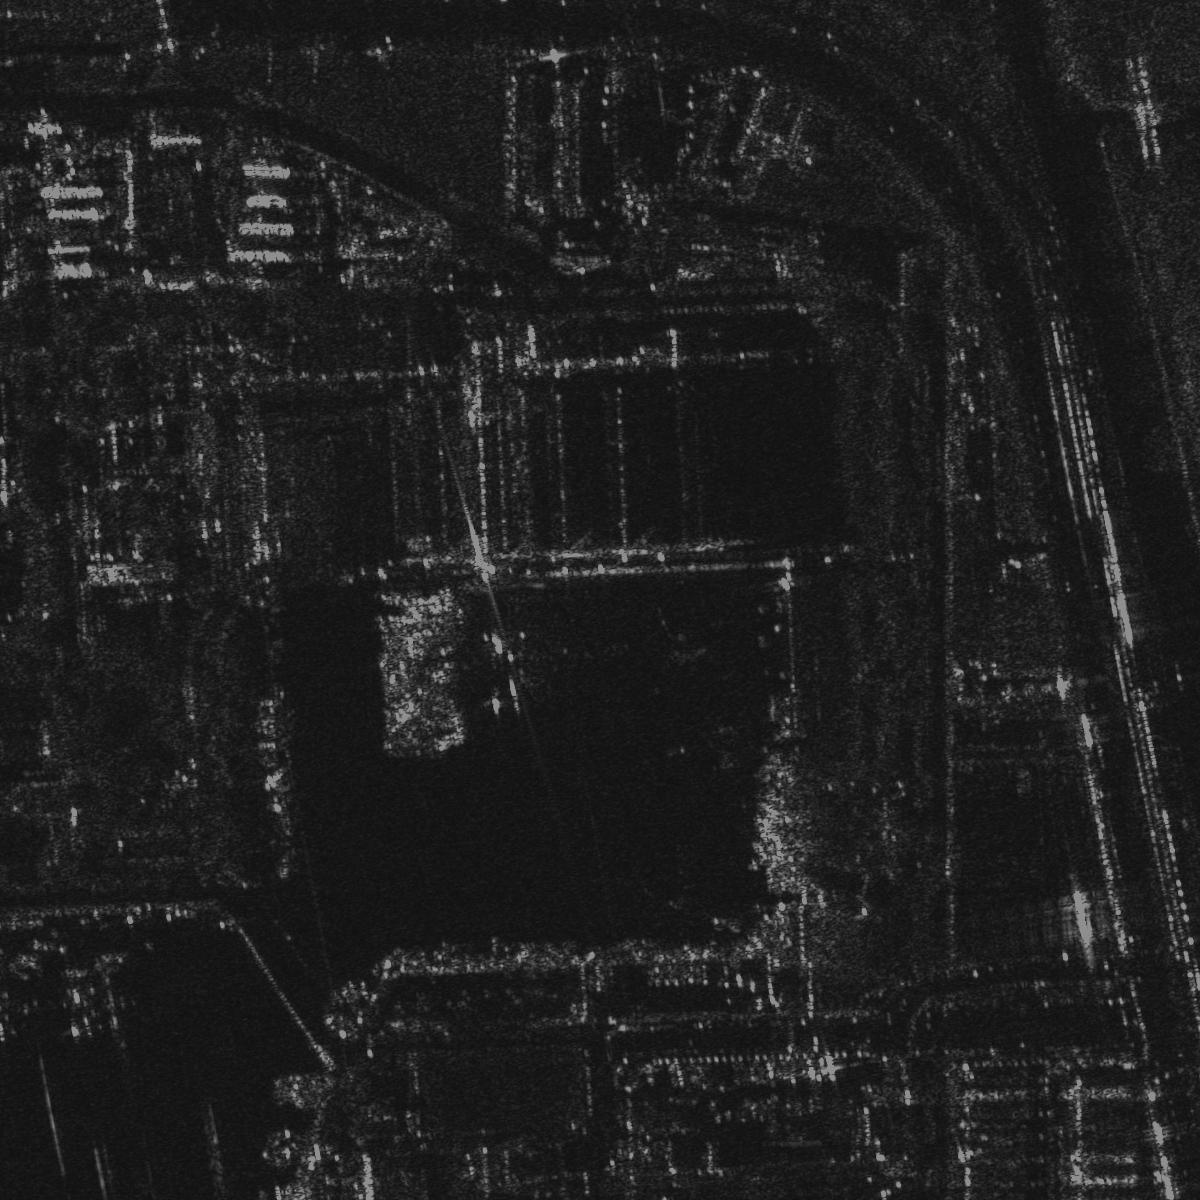Boeing737: (473, 626, 551, 716), (49, 964, 118, 1043)
other: (608, 605, 712, 695)
